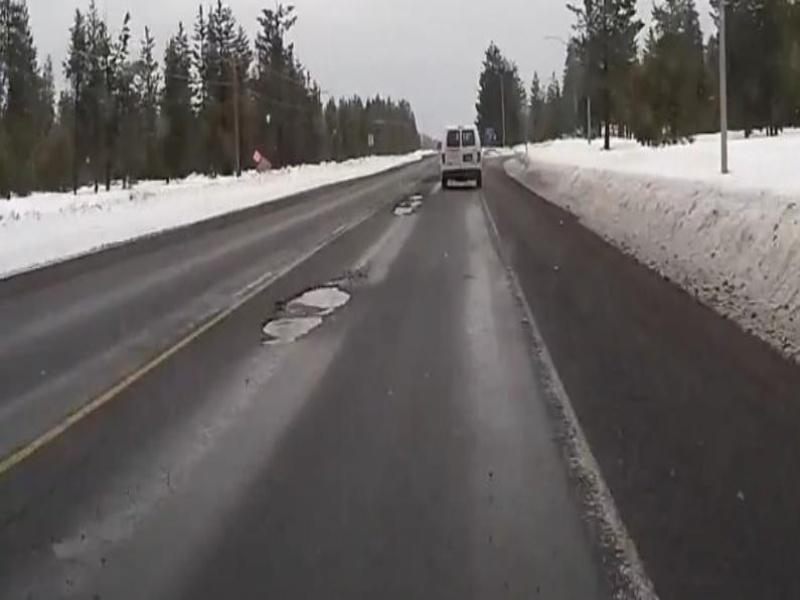pothole: (277, 281, 357, 315), (254, 313, 326, 347), (392, 190, 428, 217)
